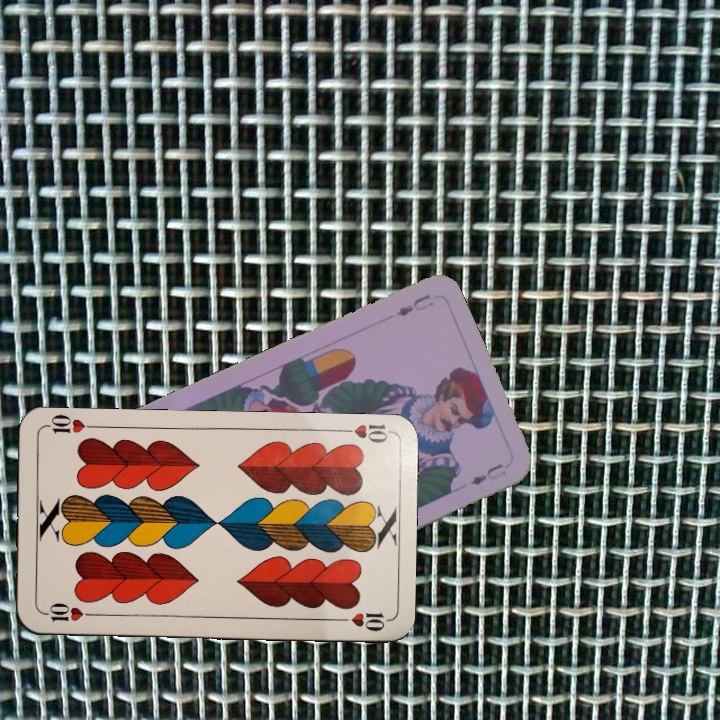EU: (392, 289, 436, 319)
H10: (333, 420, 392, 446), (40, 600, 99, 624)
